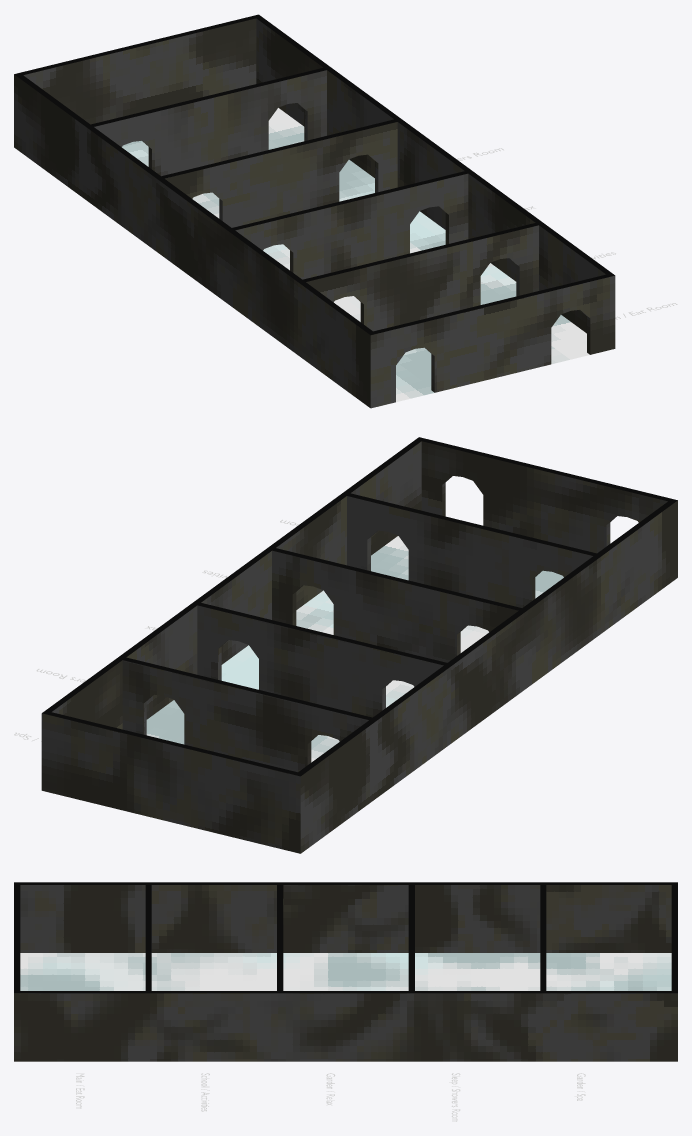
The model's file is jacobs house.glb.
The picture shows the model from 3 angles, top to bottom: view 1: azimuth 30°, elevation 25°; view 2: azimuth 150°, elevation 25°; view 3: azimuth 270°, elevation 25°; orthographic projection. The views are drawn at different scales.
Parts seen in each view (by area): view 1: Plane; view 2: Plane; view 3: Plane.
Boxes of the visible parts, x1,y1,x2,y2 form: Plane: [14, 14, 615, 408]; Plane: [41, 437, 677, 853]; Plane: [14, 882, 677, 1061].
Size of the model in its own units: 31.66 by 6.32 by 53.
3 materials, 2 textured.
